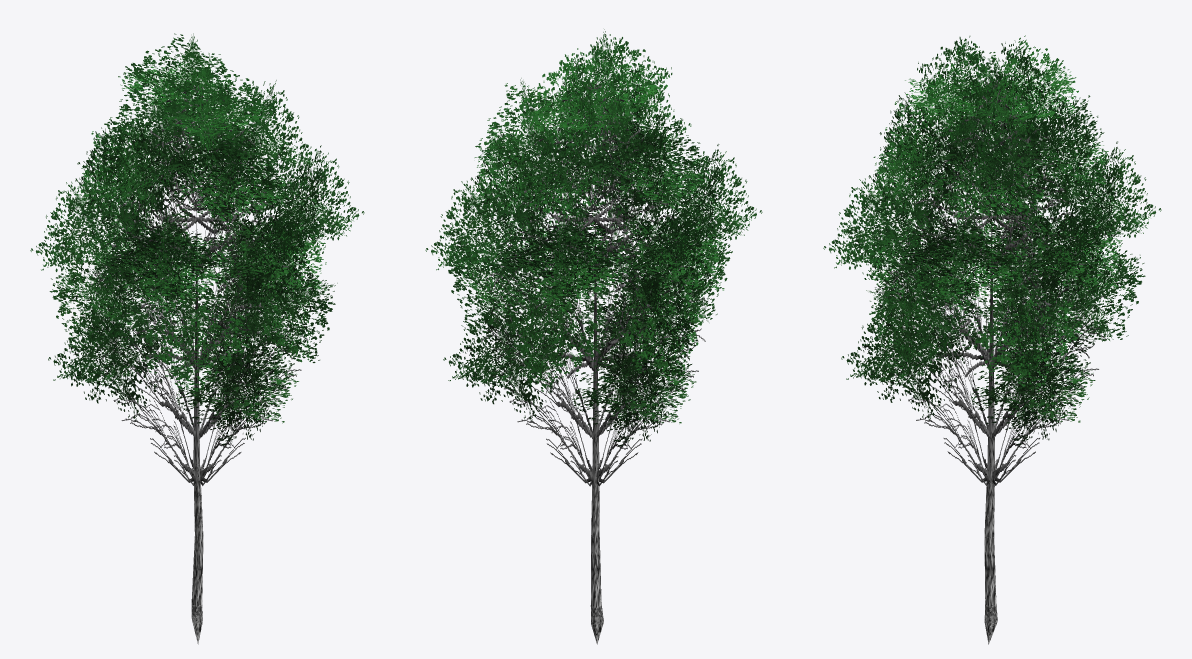
File: berk_4.fbx
The picture shows the model from 3 angles, left to right: view 1: azimuth 30°, elevation 25°; view 2: azimuth 150°, elevation 25°; view 3: azimuth 270°, elevation 25°; orthographic projection.
Visible parts, largest first — view 1: berk_4; view 2: berk_4; view 3: berk_4.
Boxes of the visible parts, x1,y1,x2,y2 form: berk_4: (30, 33, 364, 644); berk_4: (425, 29, 762, 644); berk_4: (823, 35, 1161, 644).
Size of the model in its own units: 1280 by 2398 by 1280.
